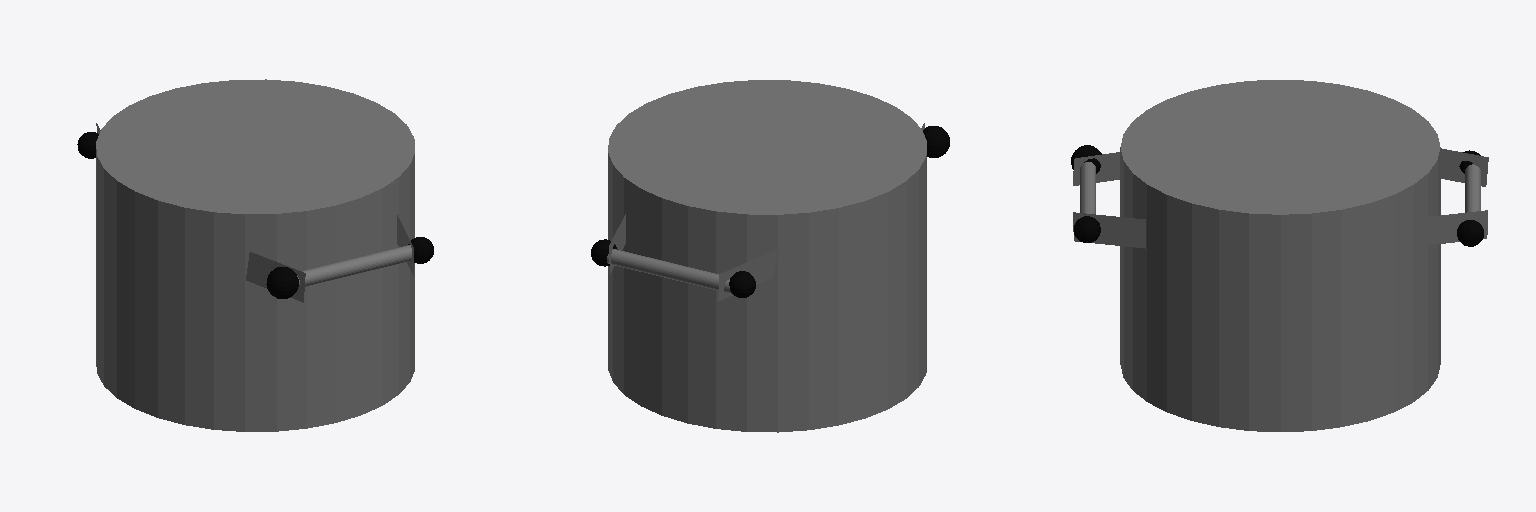
File: Olla.obj
3 renders of one model, left to right at view 1: azimuth 30°, elevation 25°; view 2: azimuth 150°, elevation 25°; view 3: azimuth 270°, elevation 25°, orthographic.
Parts seen in each view (by area): view 1: Olla_principal, Mball; view 2: Olla_principal, Mball; view 3: Olla_principal, Mball.
Part boxes in pixels (x1,y1,x2,y2): Olla_principal: (96, 79, 414, 431); Mball: (77, 132, 433, 298); Olla_principal: (607, 80, 926, 432); Mball: (591, 126, 949, 297); Olla_principal: (1073, 80, 1488, 431); Mball: (1071, 145, 1483, 246).
Bounding box in the file's own units: 4 × 3 × 5.22.